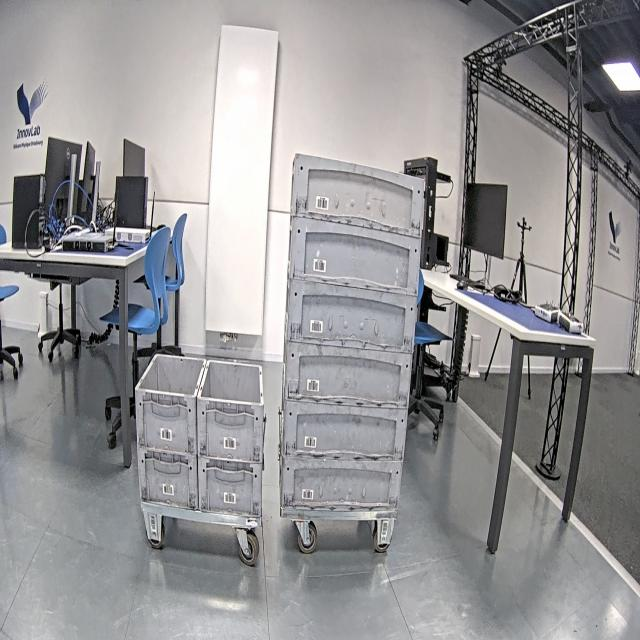Box3G: (290, 146, 424, 243), (289, 213, 420, 304), (287, 276, 417, 360), (284, 336, 414, 414), (279, 396, 410, 466), (278, 444, 402, 516)
Box8G: (200, 355, 264, 461), (137, 354, 202, 454), (198, 456, 264, 518), (140, 450, 198, 512)
